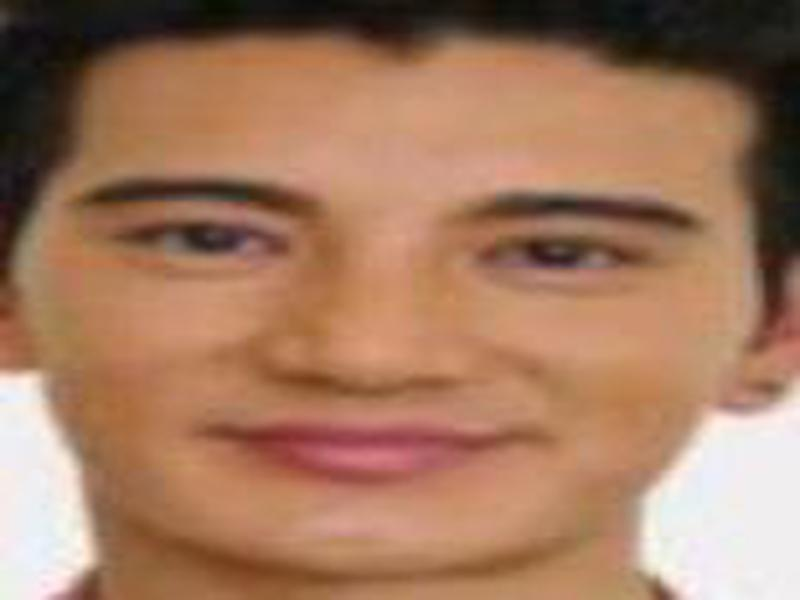without_mask: (48, 48, 719, 567)
